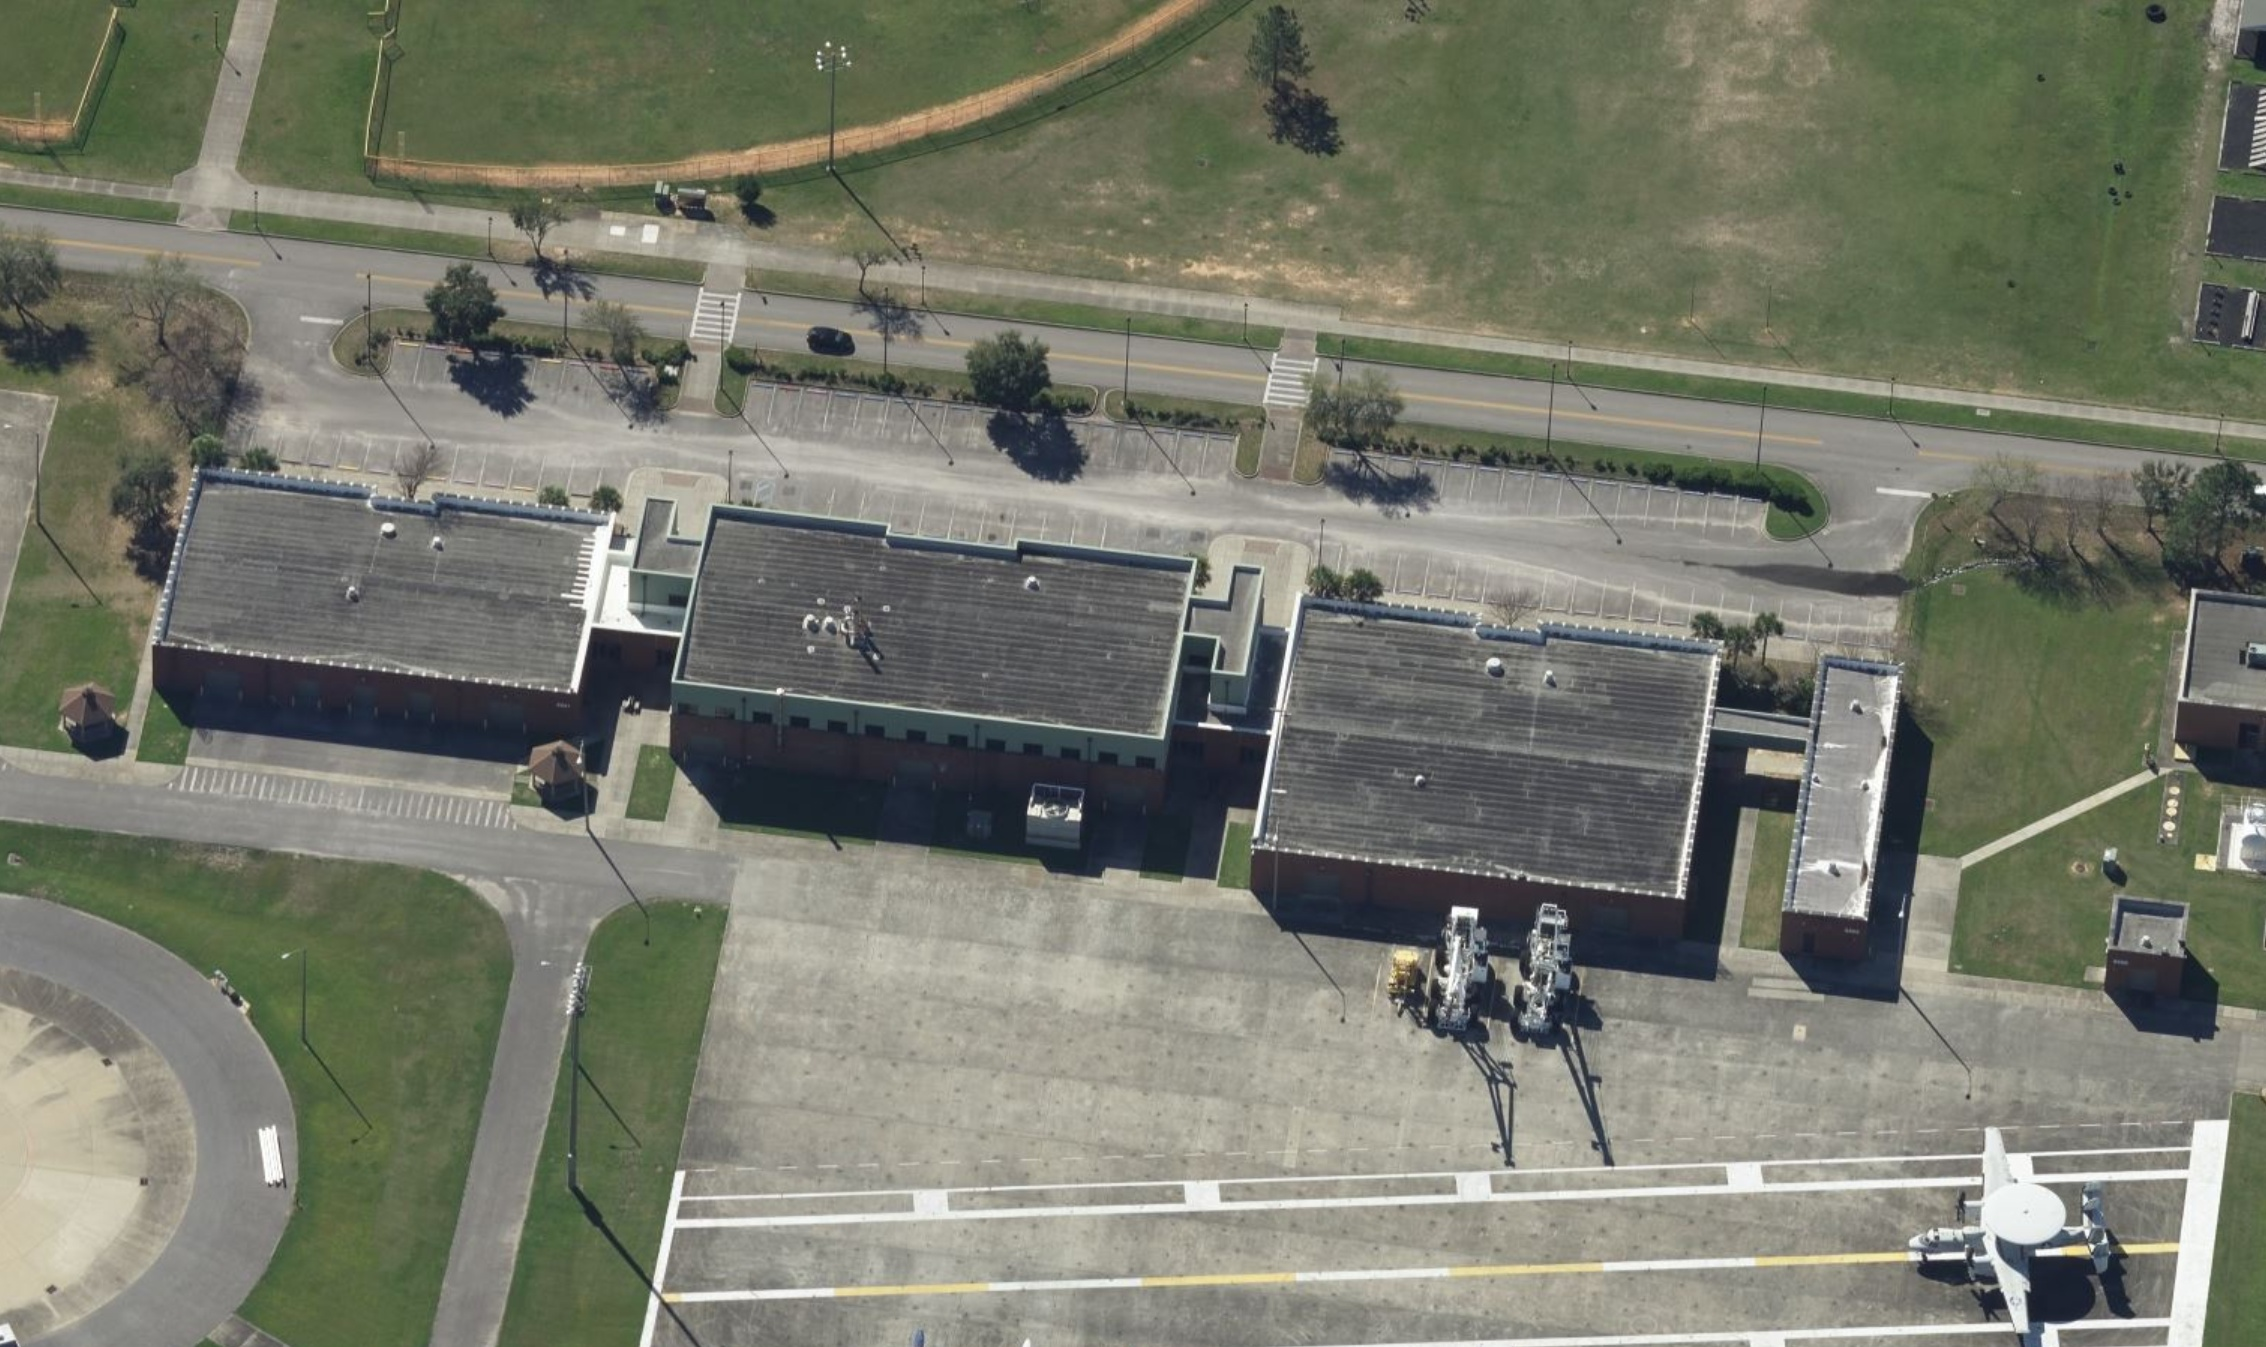E2: (1907, 1126, 2112, 1334)
